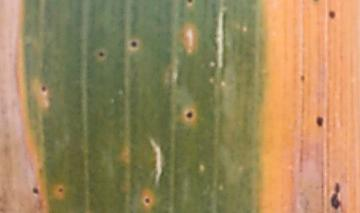tarspot: (329, 182, 342, 210), (315, 115, 325, 128), (327, 8, 336, 20), (184, 110, 194, 119), (129, 40, 138, 49), (31, 186, 39, 195), (40, 84, 47, 93), (299, 73, 305, 83), (97, 50, 104, 58), (57, 186, 64, 194), (144, 196, 150, 205), (310, 1, 321, 4), (186, 1, 194, 4)
